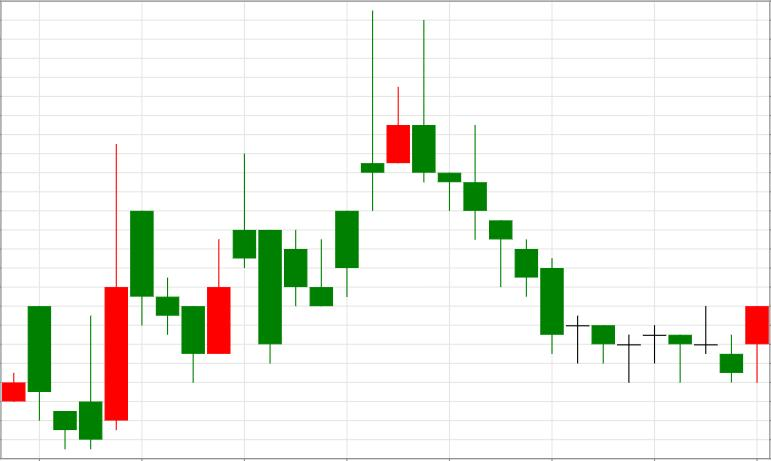shooting_star_fall: (310, 10, 436, 307)
